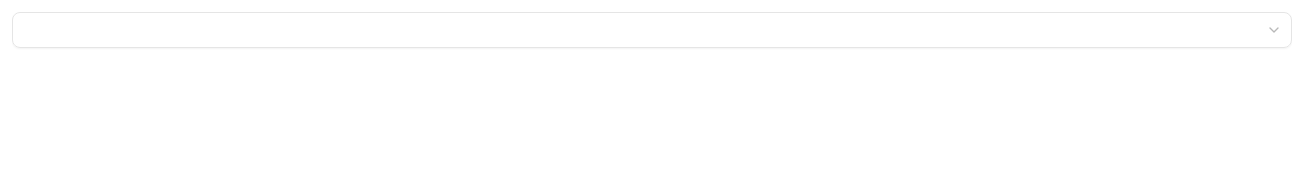
Combobox › commits typed text as the value in allowCustom mode
Type "my-mod" into the dropdown named "mod name" at (652, 30), box [12,12,1292,48]
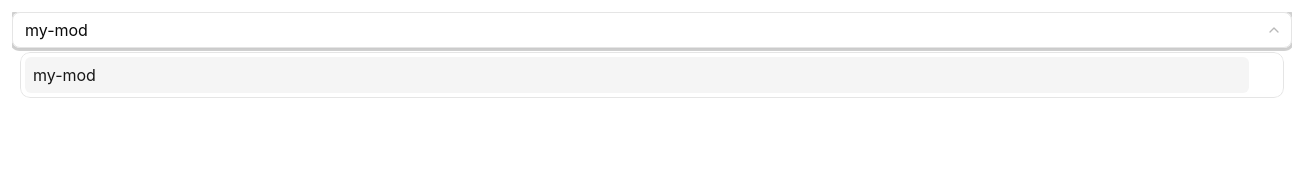
Expected: the option "my-mod" is shown, [25,57,1249,93]
